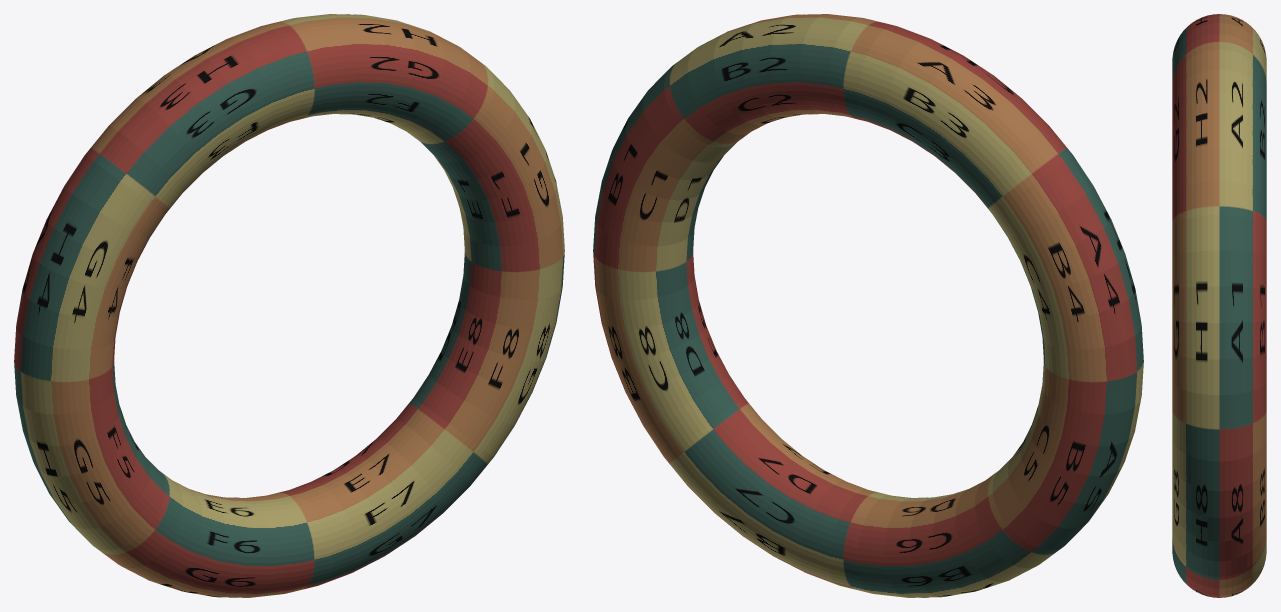
The model's file is texture_torus_R11_r5.glb.
3 views of the same model, side by side, from view 1: azimuth 30°, elevation 25°; view 2: azimuth 150°, elevation 25°; view 3: azimuth 270°, elevation 25° (orthographic). The views are drawn at different scales.
Parts seen in each view (by area): view 1: world; view 2: world; view 3: world.
Boxes of the visible parts, left/top/right/bottom form: world: left=14, top=14, right=564, bottom=597; world: left=593, top=14, right=1143, bottom=597; world: left=1172, top=14, right=1266, bottom=597.
Bounding box in the file's own units: 20.67 × 20.63 × 3.33.
1 material, 1 textured.
